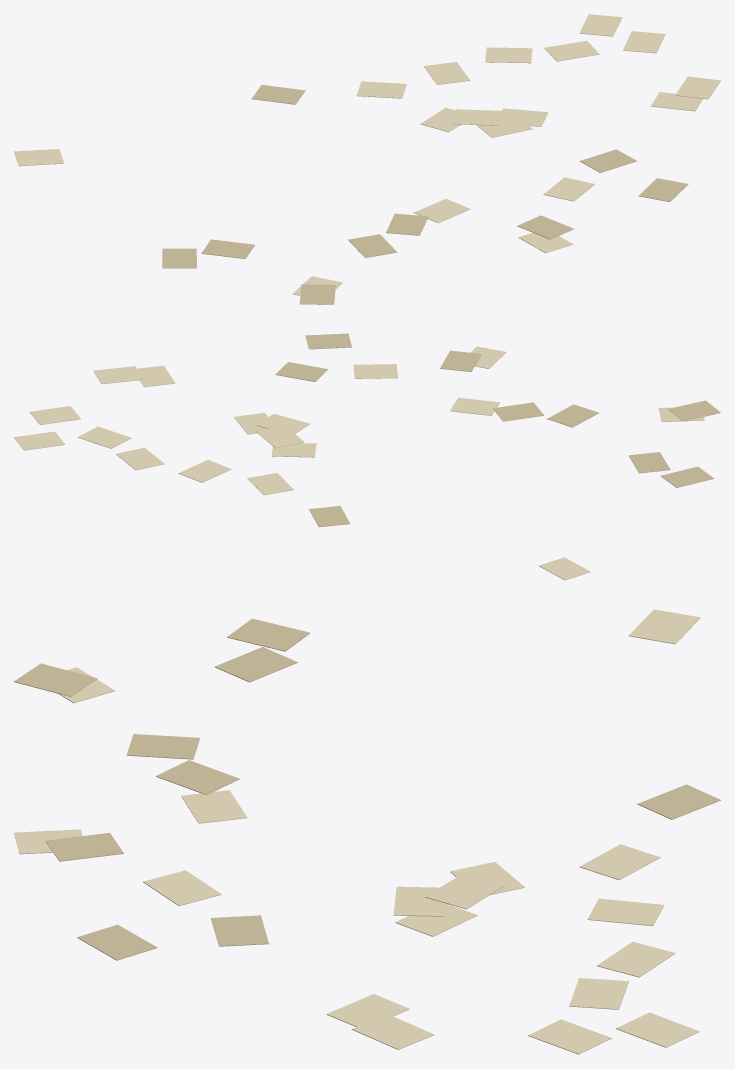
The model's file is paper_litter.glb.
3 views of the same model, one above another, from view 1: azimuth 30°, elevation 25°; view 2: azimuth 150°, elevation 25°; view 3: azimuth 270°, elevation 25° (orthographic). The views are drawn at different scales.
Parts seen in each view (by area): view 1: paper_litter2; view 2: paper_litter2; view 3: paper_litter2.
Part boxes in pixels (x1=…): paper_litter2: x1=14, y1=14, x2=720, y2=304; paper_litter2: x1=14, y1=333, x2=720, y2=580; paper_litter2: x1=14, y1=609, x2=720, y2=1054.
Size of the model in its own units: 6.24 by 0.034 by 4.21.
